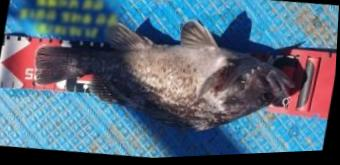fish: (35, 21, 301, 132)
